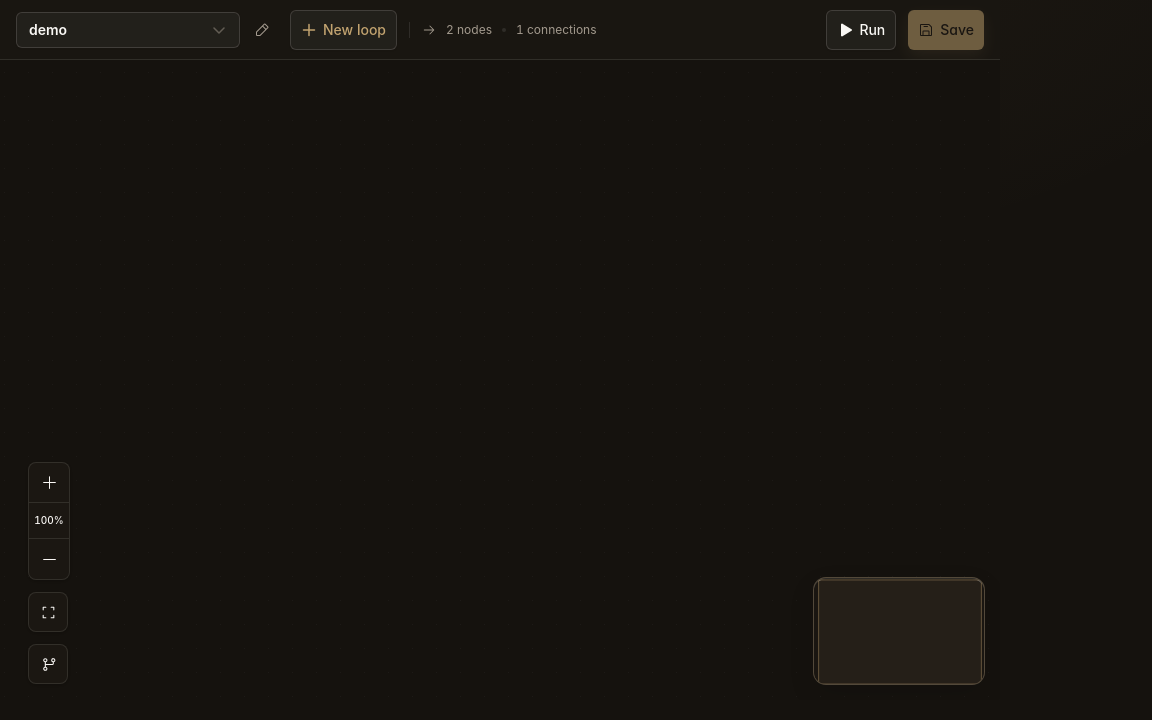
Scenario: NodeGraphEditor canvas menu › shows the complete node palette directly without a nested menu
Right-click the element with class "react-flow__pane": (500, 380) [0, 60, 1000, 700]
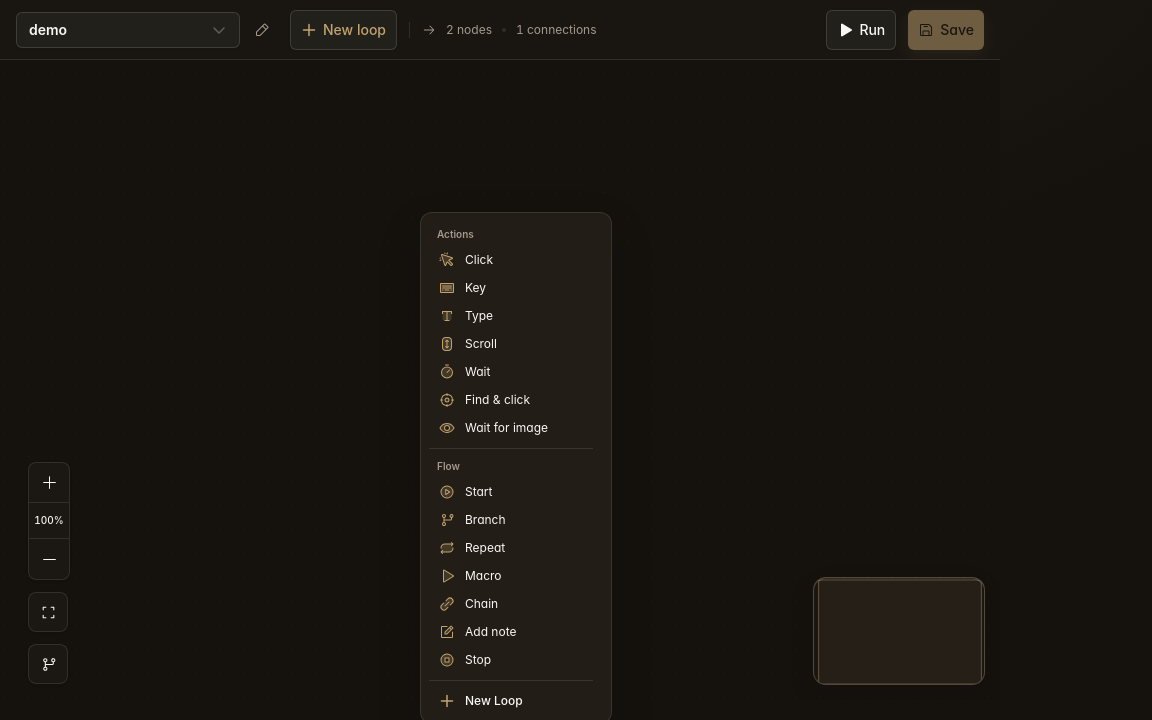
Now the menu item "Type" is shown, box [429, 302, 593, 330]
Now the menu item "Scroll" is shown, box [429, 330, 593, 358]
Now the menu item "Find & click" is shown, box [429, 386, 593, 414]
